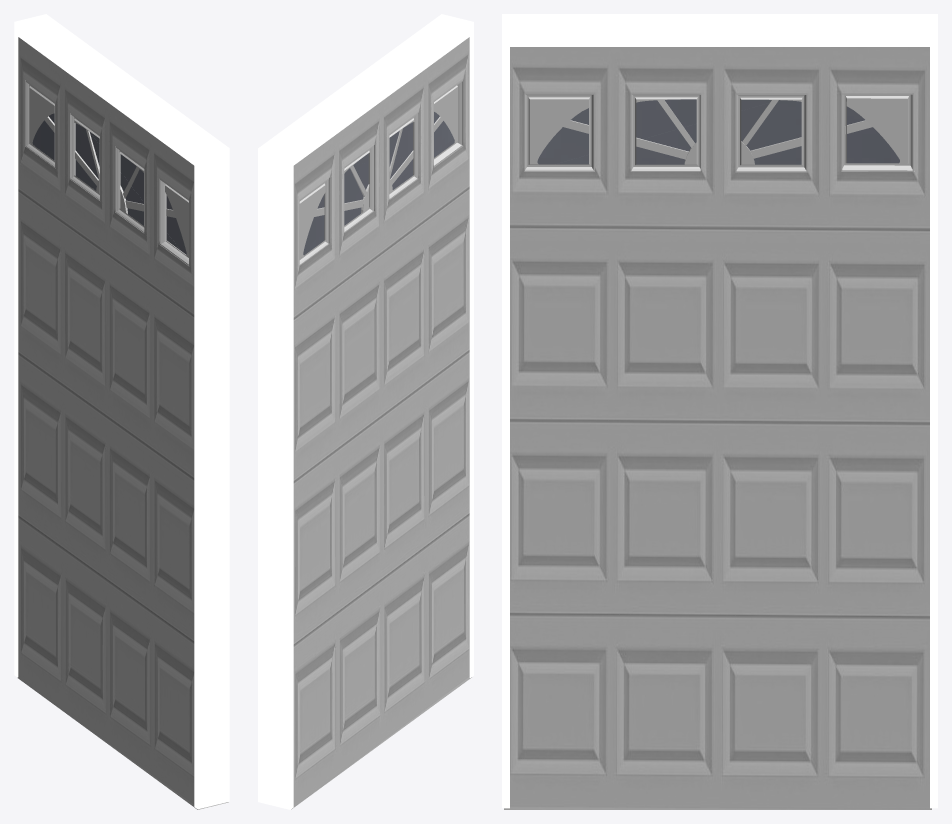
Rendered from overhead_door_door_williamsburg.542ac4ae.gltf.
3 views of the same model, side by side, from view 1: azimuth 30°, elevation 25°; view 2: azimuth 150°, elevation 25°; view 3: azimuth 270°, elevation 25° (orthographic). The views are drawn at different scales.
Visible parts, largest first — view 1: door, trim, door_window, Glass; view 2: door, trim, door_window, Glass; view 3: door, trim, door_window, Glass.
Boxes of the visible parts, box(x1,y1,x2,y2) form: door: box(17, 37, 228, 809); trim: box(14, 14, 229, 809); door_window: box(25, 80, 189, 265); Glass: box(32, 113, 186, 254); door: box(291, 37, 471, 809); trim: box(258, 14, 473, 809); door_window: box(299, 80, 463, 265); Glass: box(303, 112, 454, 255); door: box(504, 47, 931, 809); trim: box(502, 14, 937, 808); door_window: box(524, 93, 914, 172); Glass: box(537, 99, 899, 164).
Size of the model in its own units: 0.3092 by 6.01 by 3.05.
4 materials, 2 textured.
